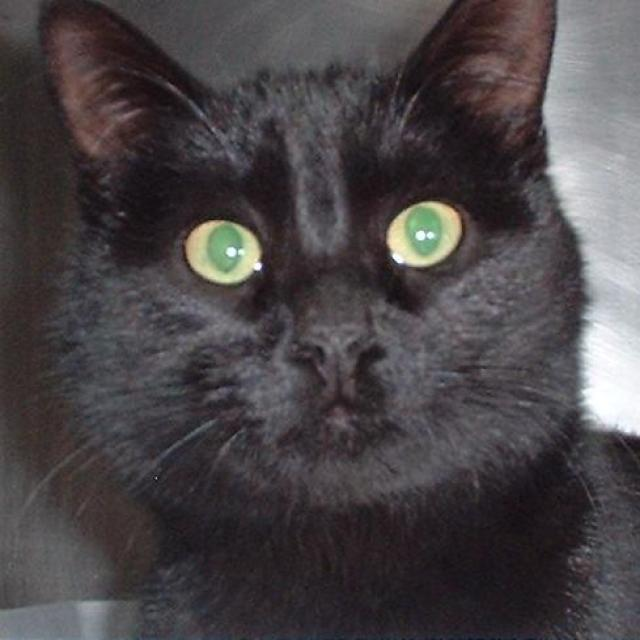Cats: (17, 0, 639, 639)
